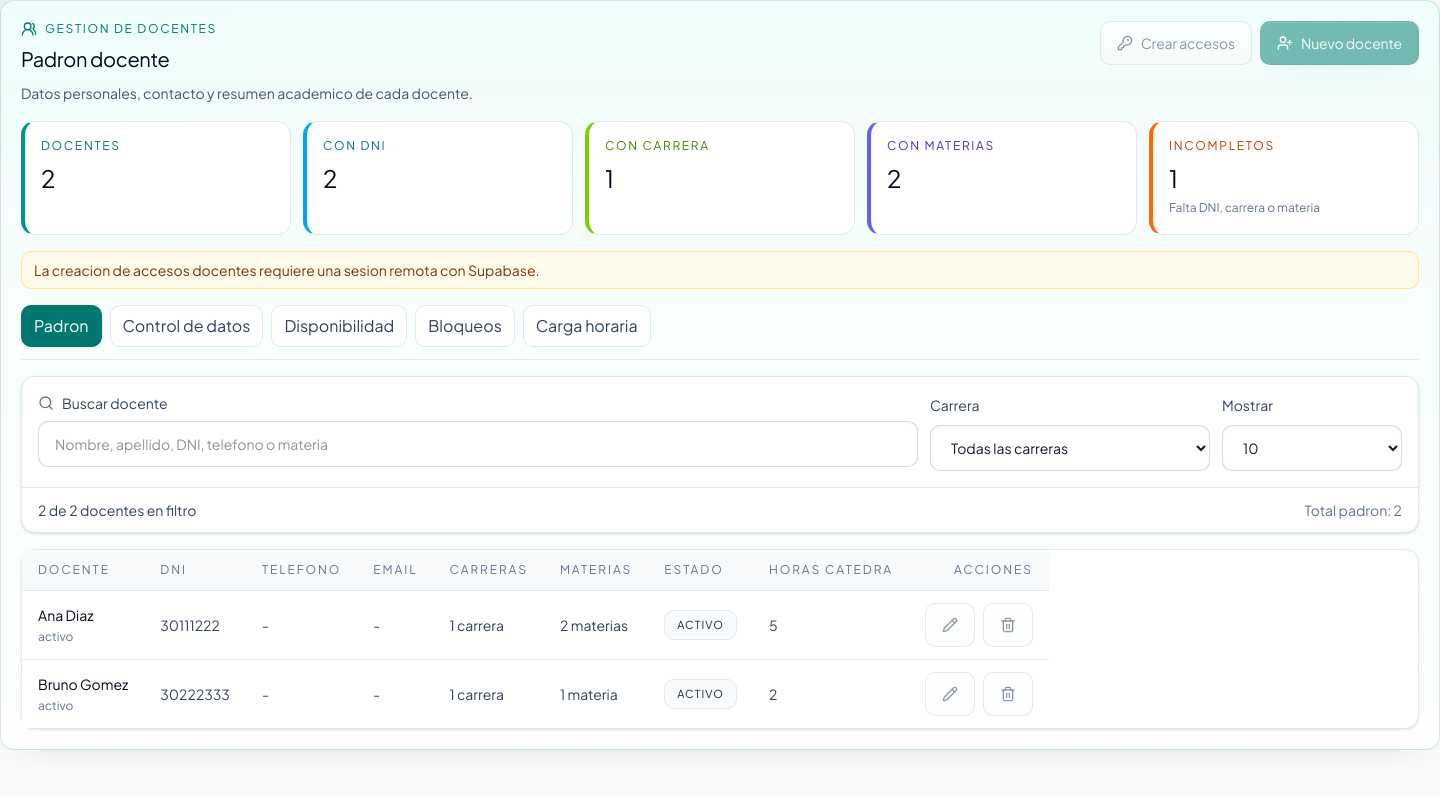
Test: TeacherRosterSection fechas bloqueadas › resume disponibilidad docente desde horarios docentes
Click the button "Disponibilidad". click: (339, 326)
box: [271,305,407,347]
(page scrolled)
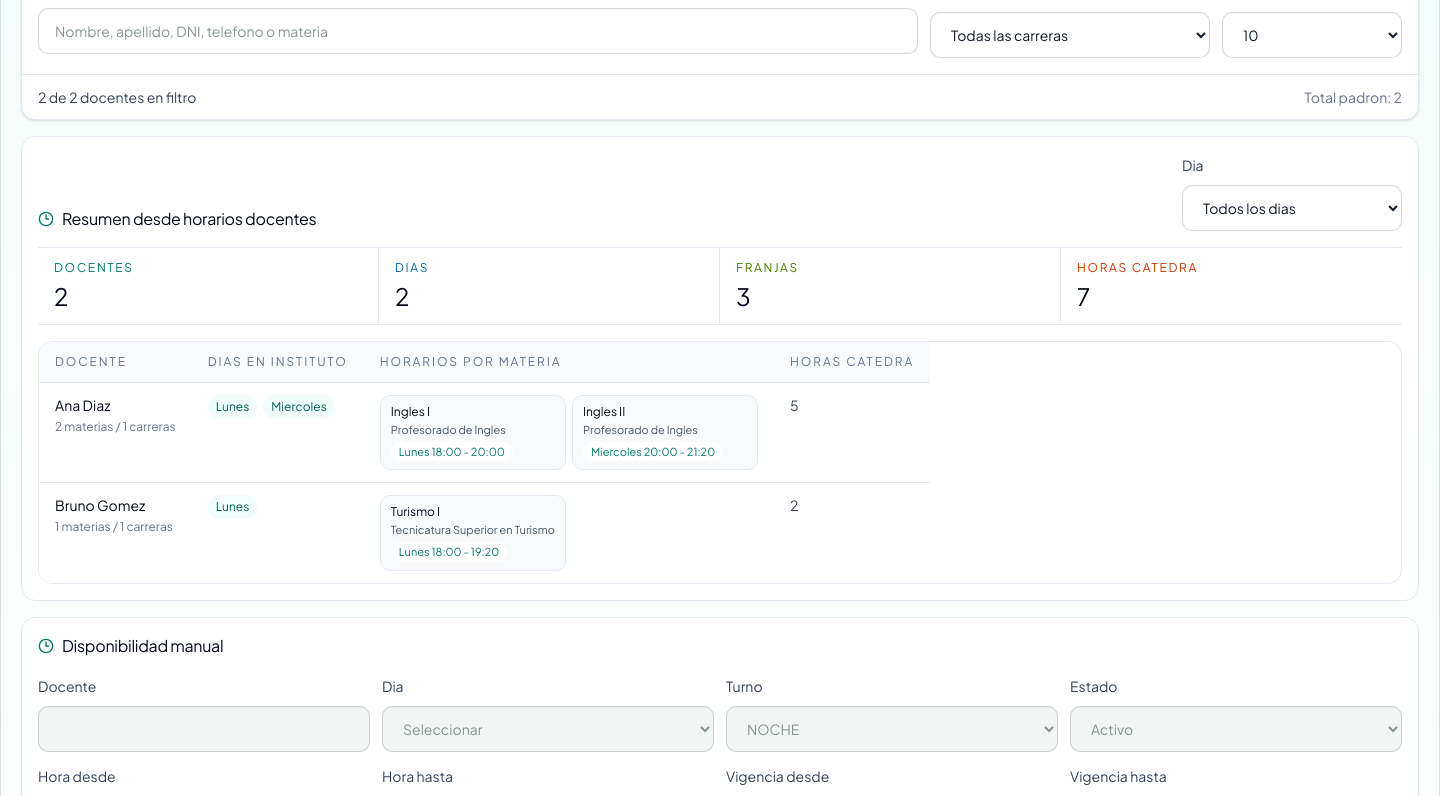
Check: the 1st text "2" is shown, box [54,281,68,311]
Check: the 2nd text "2" is shown, box [395,281,409,311]
Check: the text "7" is shown, box [1077,281,1090,311]
Click the button with aria-label "Ver detalle de Ana Diaz". click: (83, 405)
box: [55,395,110,415]
(page scrolled)
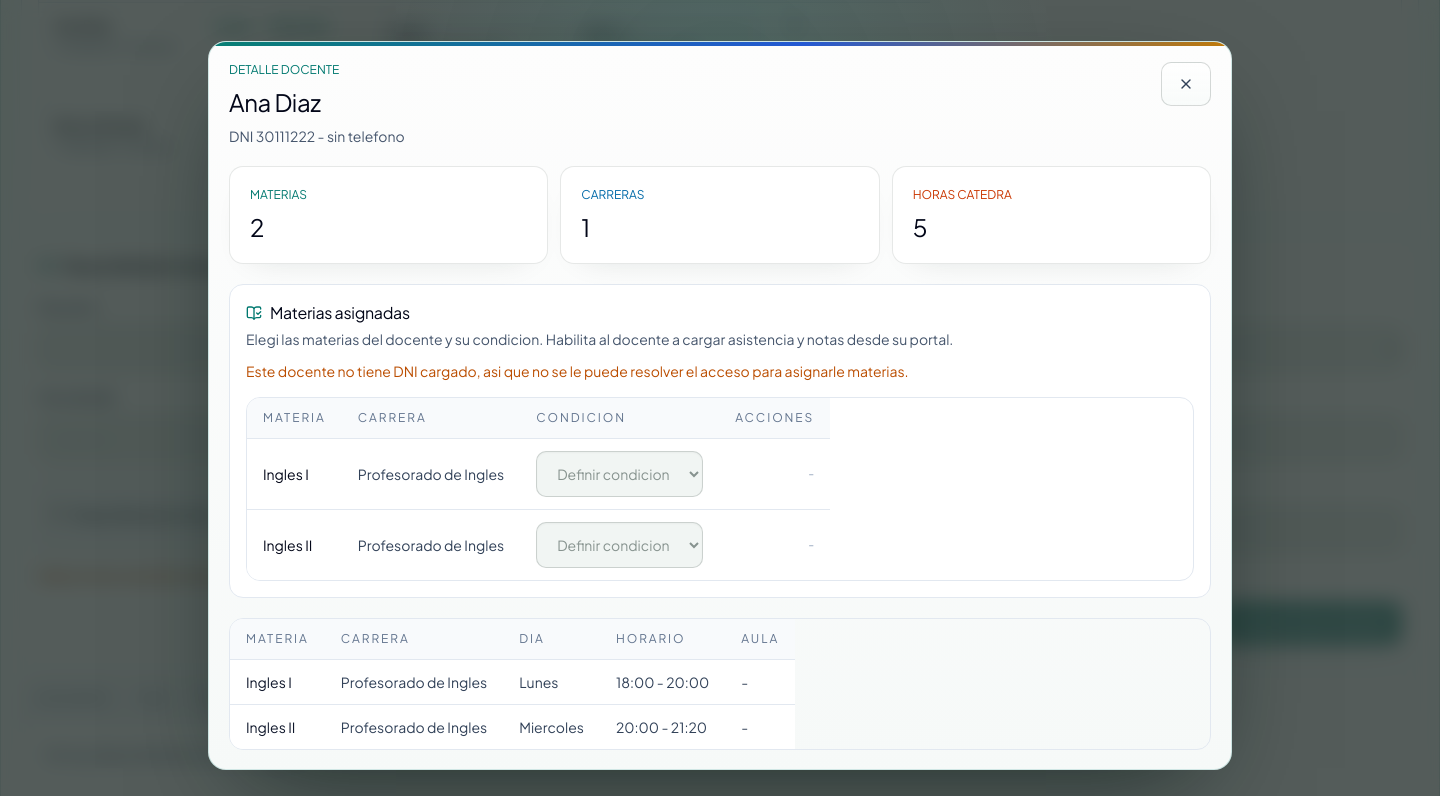
Check: the 2nd text "Ingles I" is shown, box [230,659,325,704]
Check: the 2nd text "Ingles II" is shown, box [230,704,325,748]
Check: the 3rd text "Profesorado de Ingles" is shown, box [325,659,503,704]
